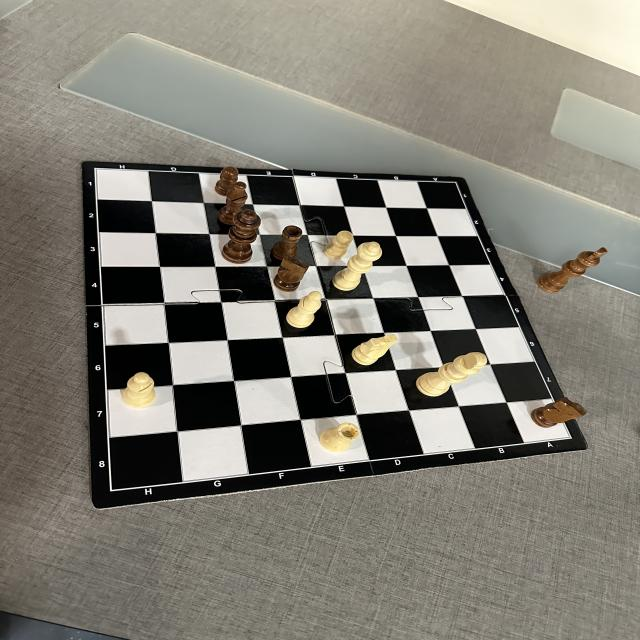Black-Bishop: (218, 182, 248, 226)
Black-King: (537, 247, 608, 294)
Black-Knight: (530, 397, 588, 428), (273, 255, 310, 292)
Black-Pawn: (215, 167, 239, 196)
Black-Queen: (221, 209, 262, 264)
Black-Rook: (272, 225, 302, 261)
White-Bishop: (286, 291, 322, 329), (121, 372, 156, 408)
White-King: (415, 352, 487, 397)
White-Knight: (351, 334, 398, 366)
White-Pawn: (323, 230, 354, 260)
White-Queen: (332, 241, 382, 291)
White-Rook: (319, 422, 360, 453)
